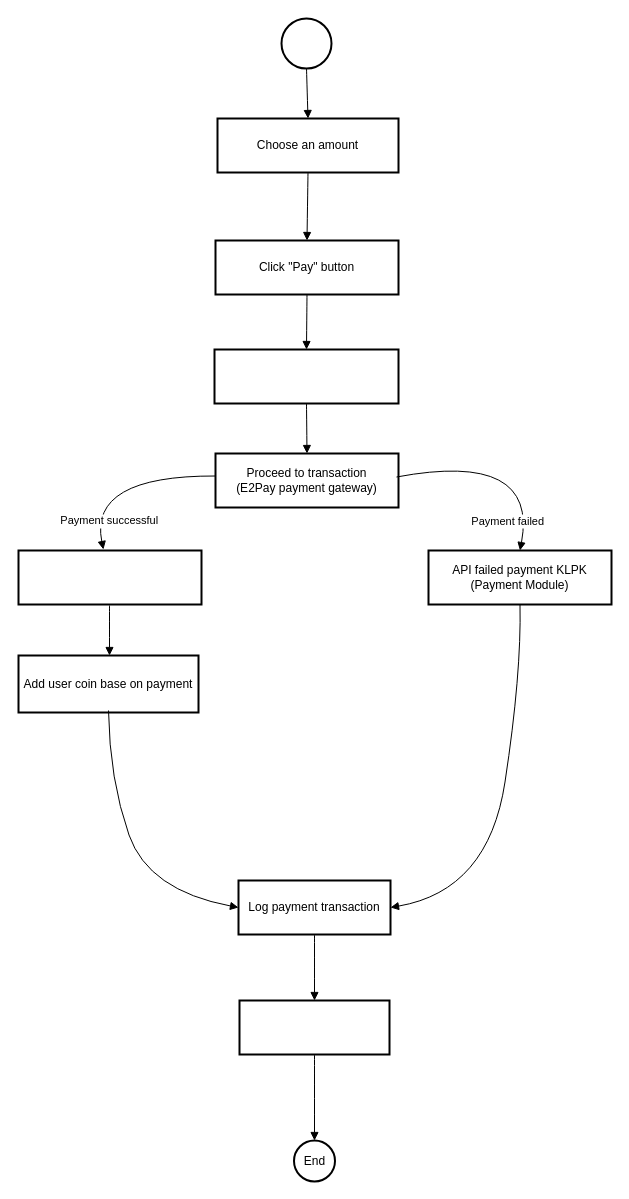
The diagram is 629 pixels wide and 1199 high, and some of its shapes have lost their labels. Here are the shapes that lost their labels. From the top down, the centre of each, then its label:
(306,43): Start
(306,376): Send detail payment to KLPK API (Payment module)
(109,577): API success payment KLPK (Payment Module)
(314,1027): Send notif to user
